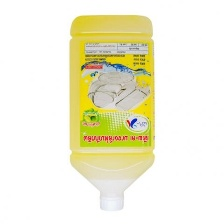cleaning_solution: (65, 12, 159, 215)
